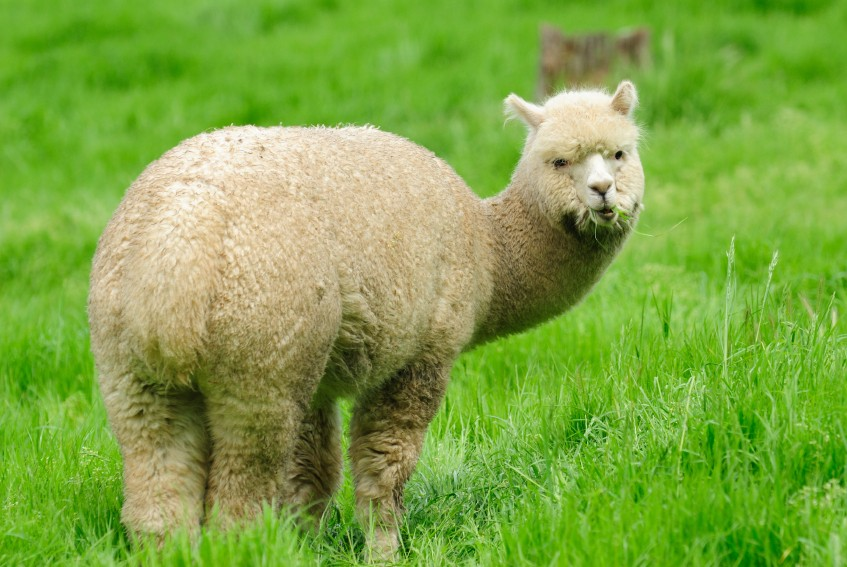alpaca: (86, 76, 645, 562)
